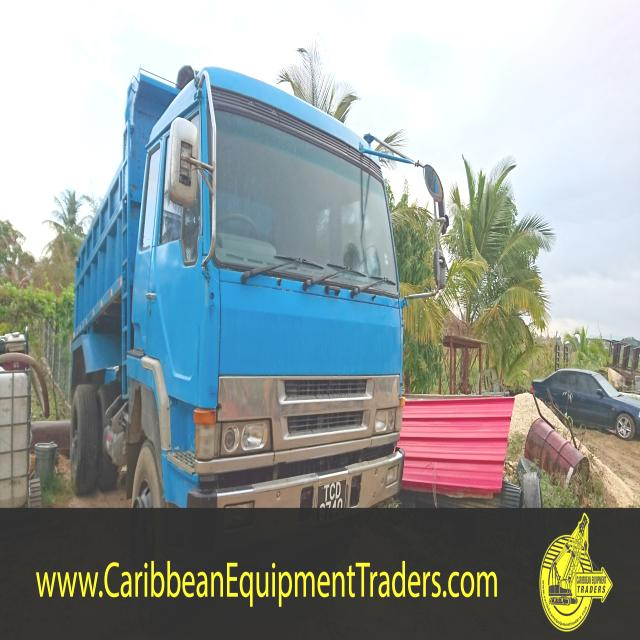truck: (64, 66, 400, 511)
